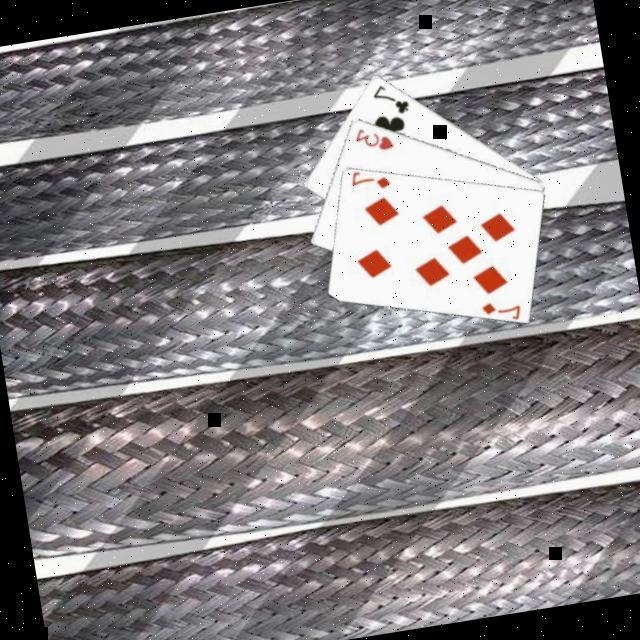3H: (350, 123, 396, 159)
7C: (368, 80, 413, 123)
7D: (346, 166, 393, 198), (477, 296, 524, 327)
